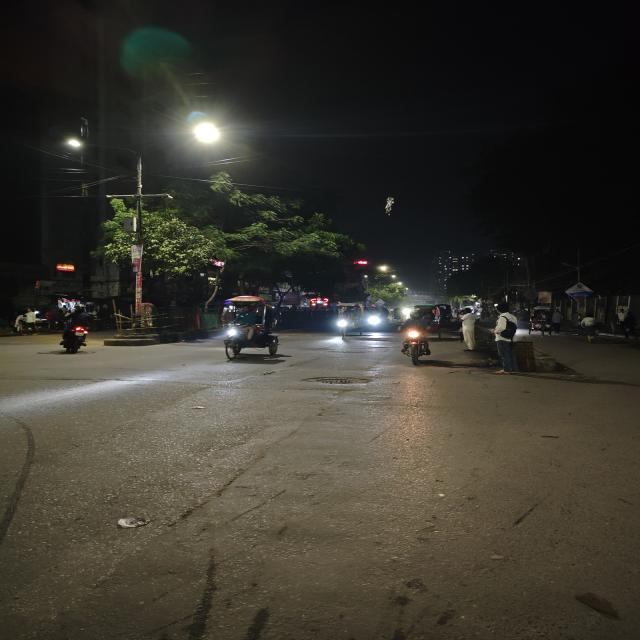motorcycle: (56, 306, 97, 358)
pedestrian: (491, 304, 522, 371), (452, 306, 488, 352), (576, 311, 607, 344)
rickshaw: (210, 293, 286, 366), (394, 310, 436, 367), (329, 300, 369, 336), (529, 307, 566, 337)
